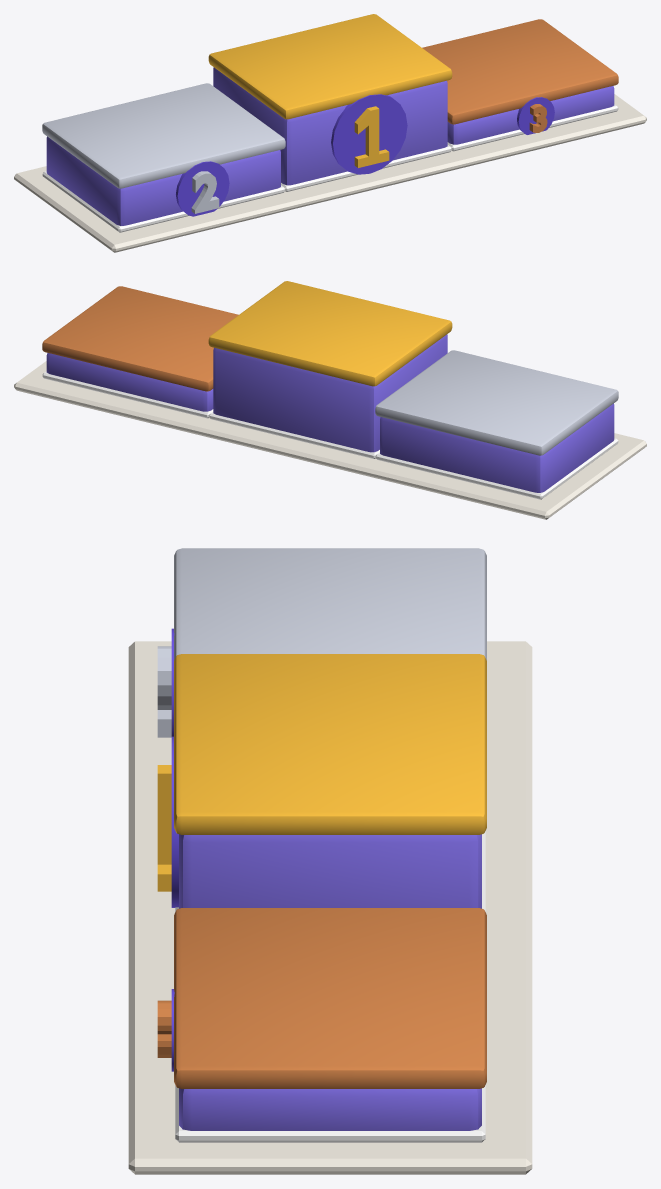
Rendered from podium.glb.
3 renders of one model, top to bottom at view 1: azimuth 30°, elevation 25°; view 2: azimuth 150°, elevation 25°; view 3: azimuth 270°, elevation 25°, orthographic. The views are drawn at different scales.
Parts seen in each view (by area): view 1: podium; view 2: podium; view 3: podium.
Part boxes in pixels (x1,y1,x2,y2): podium: [14, 14, 646, 252]; podium: [14, 281, 646, 519]; podium: [128, 548, 532, 1174].
Bounding box in the file's own units: 9.8 × 1.6 × 3.2.
